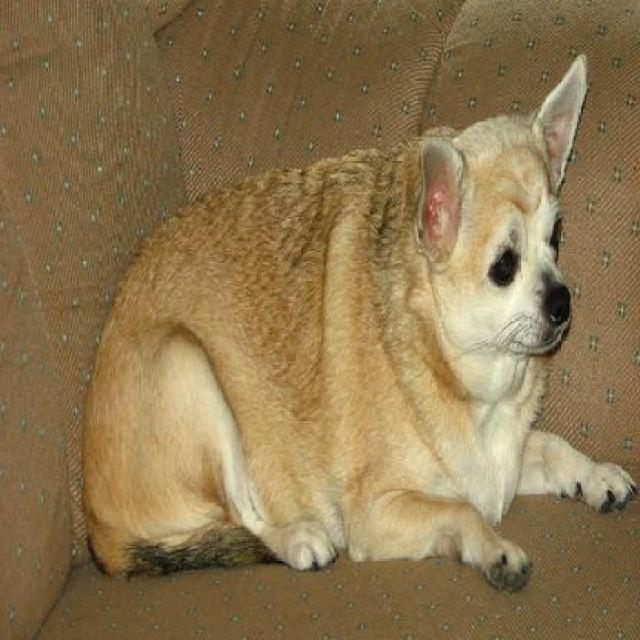Dog: (83, 48, 639, 602)
